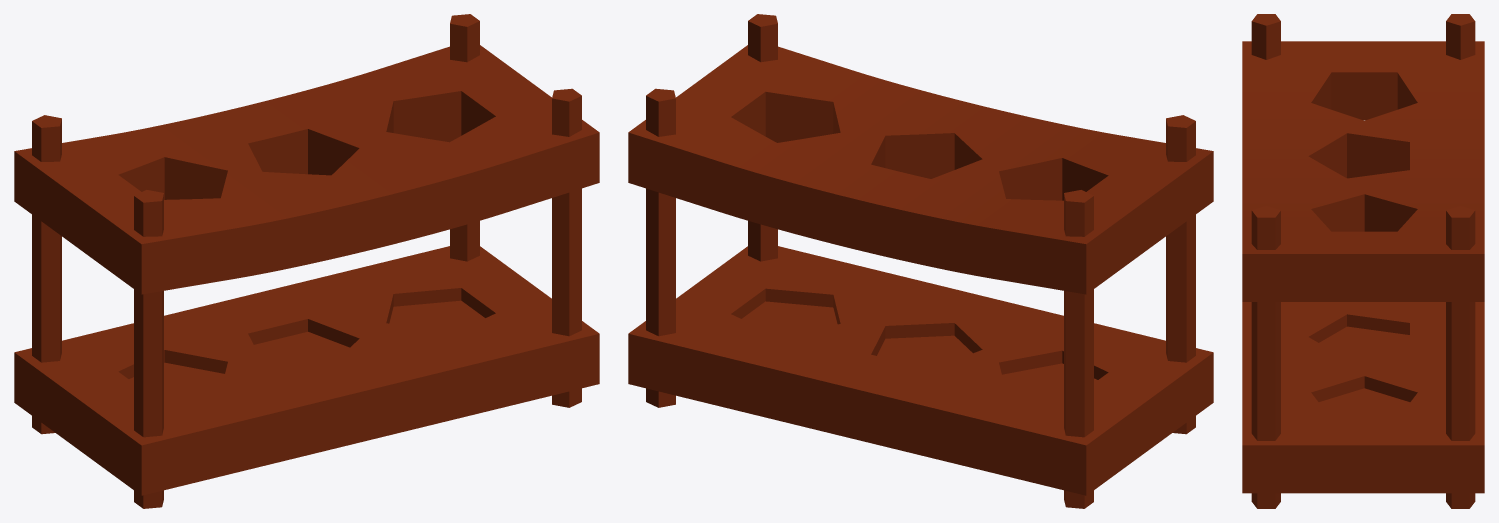
Rendered from Rack_ampules_1.fbx.
The picture shows the model from 3 angles, left to right: view 1: azimuth 30°, elevation 25°; view 2: azimuth 150°, elevation 25°; view 3: azimuth 270°, elevation 25°; orthographic projection. The views are drawn at different scales.
Visible parts, largest first — view 1: Ampule Rack; view 2: Ampule Rack; view 3: Ampule Rack.
Part boxes in pixels (left/top/right/bottom): Ampule Rack: left=14, top=14, right=599, bottom=508; Ampule Rack: left=628, top=14, right=1213, bottom=508; Ampule Rack: left=1242, top=14, right=1484, bottom=508.
Bounding box in the file's own units: 47.61 × 30.41 × 22.9.
